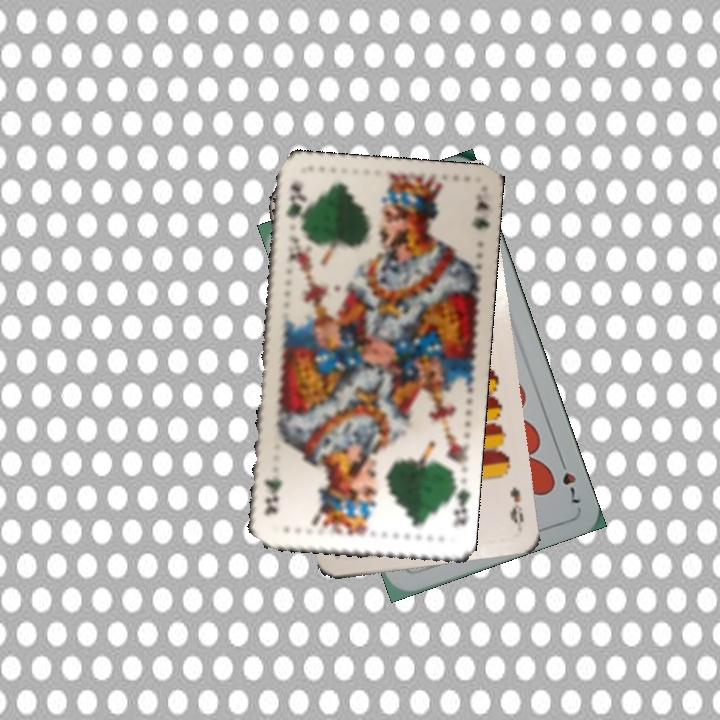E9: (506, 483, 526, 530)
GK: (443, 478, 472, 529), (282, 177, 307, 235)
H7: (555, 451, 583, 506)
